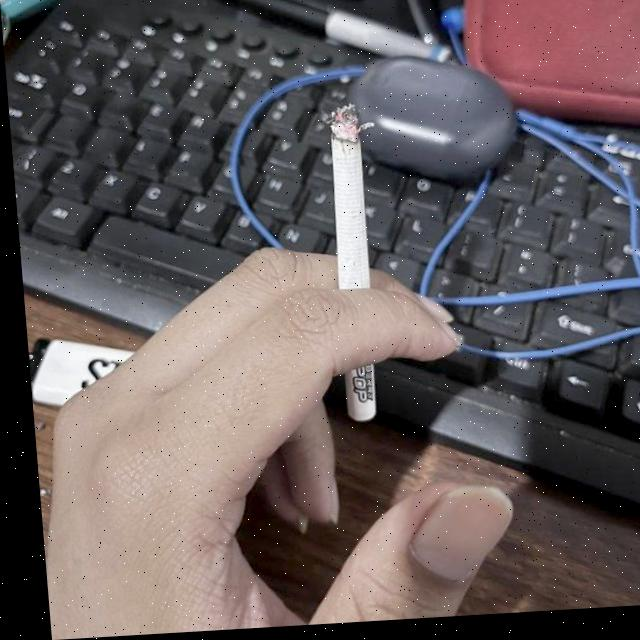cigarette: (321, 109, 376, 424)
